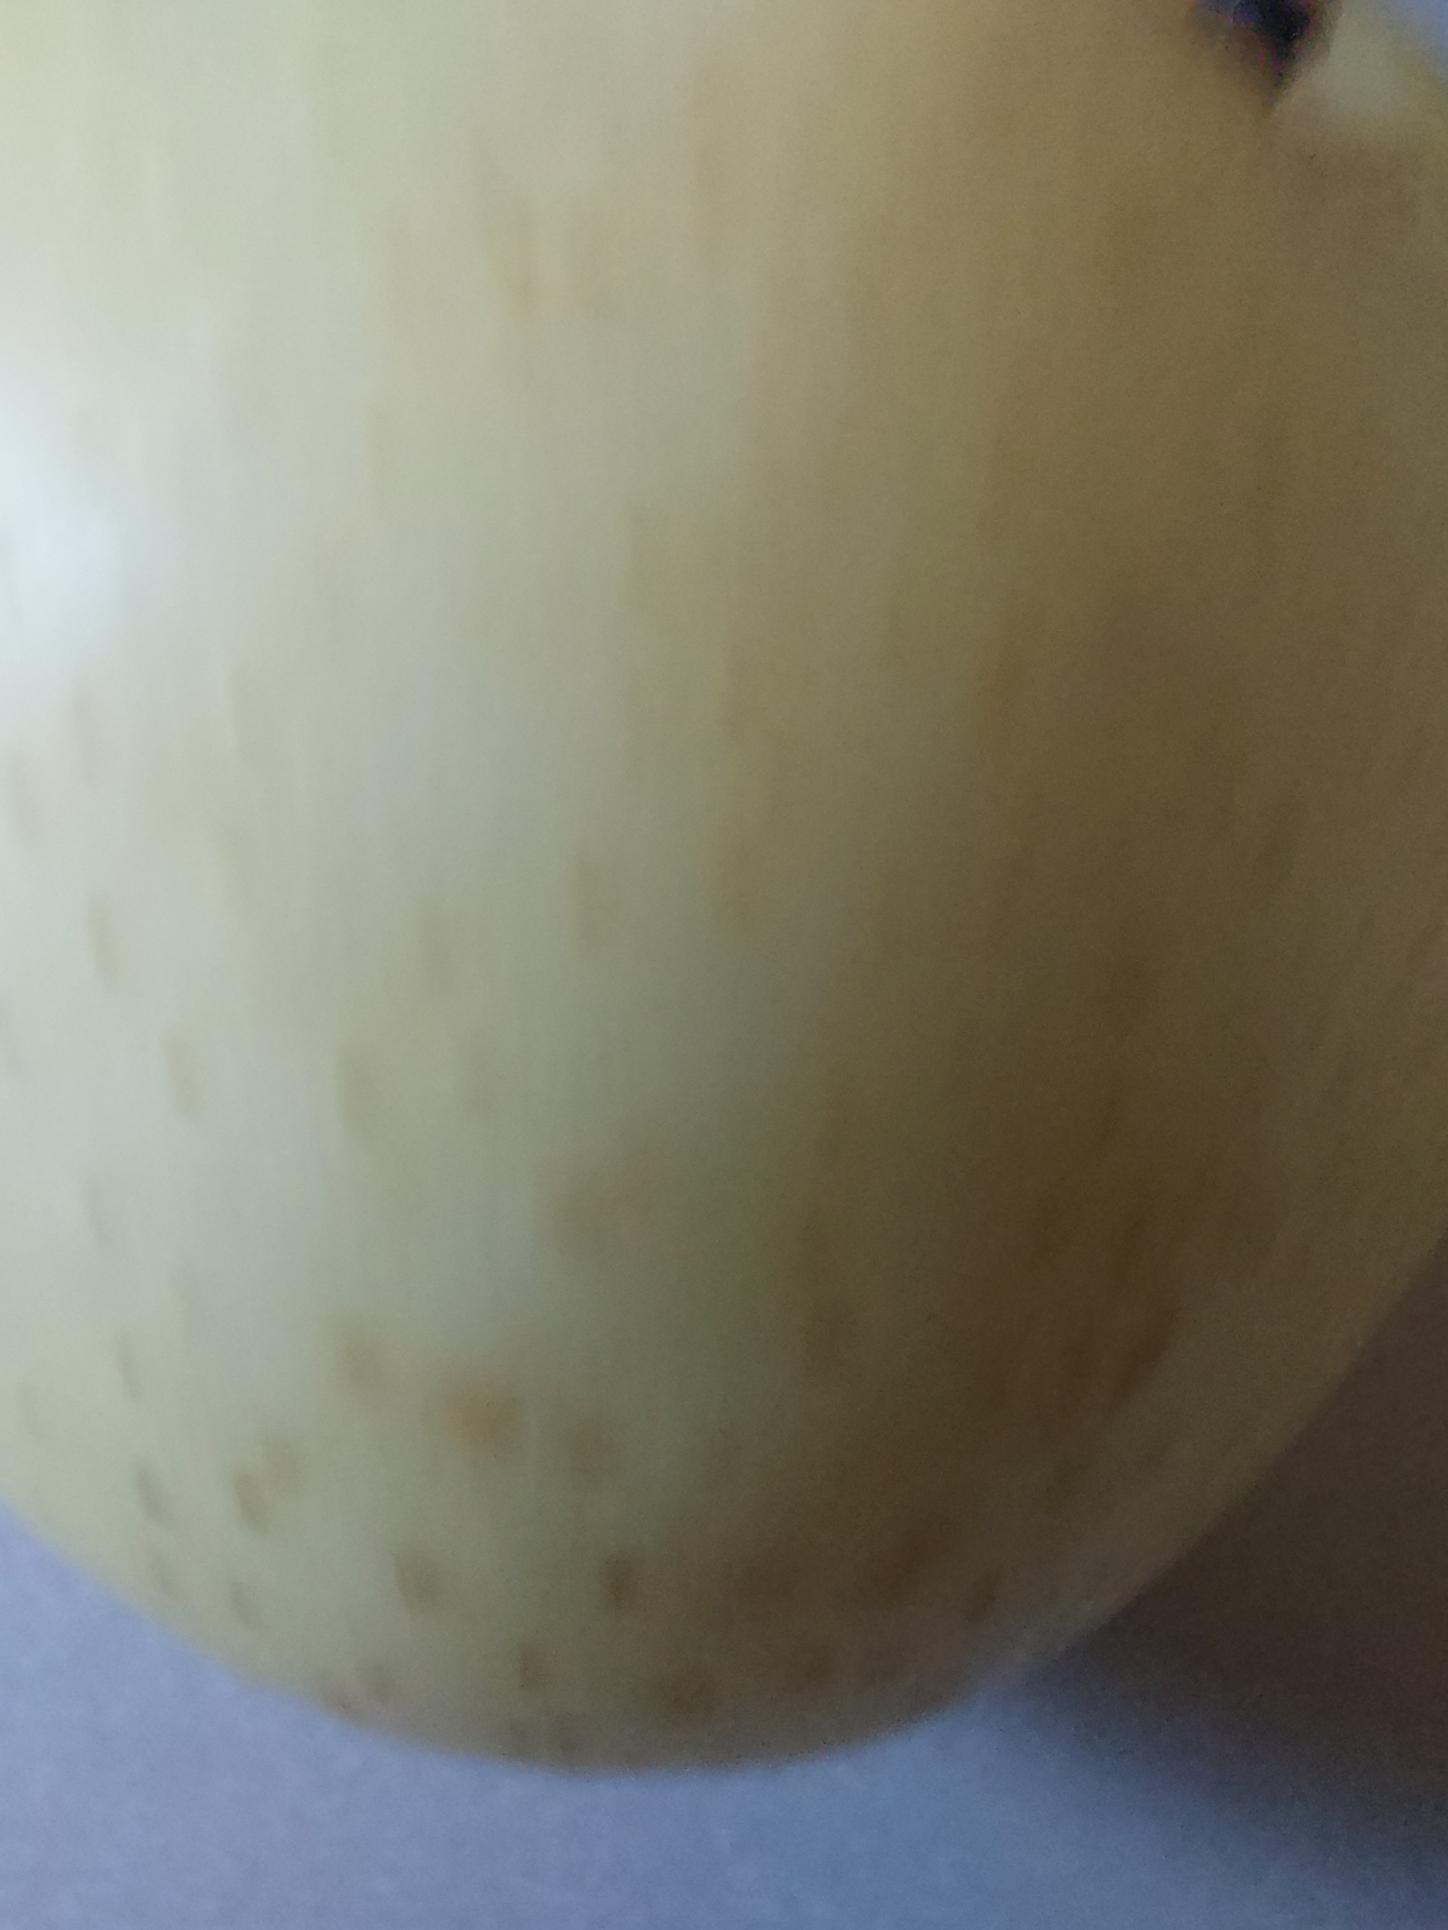Good Pear: (0, 0, 1448, 1782)
